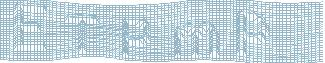E: (12, 2, 50, 52)
P: (118, 16, 154, 62)
T: (64, 12, 102, 56)
m: (172, 19, 222, 61)
p: (235, 8, 270, 63)
